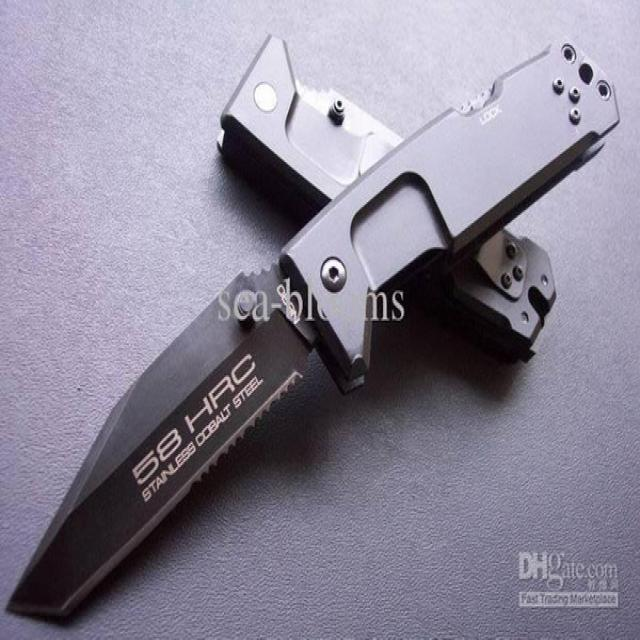knife: (3, 24, 617, 640)
